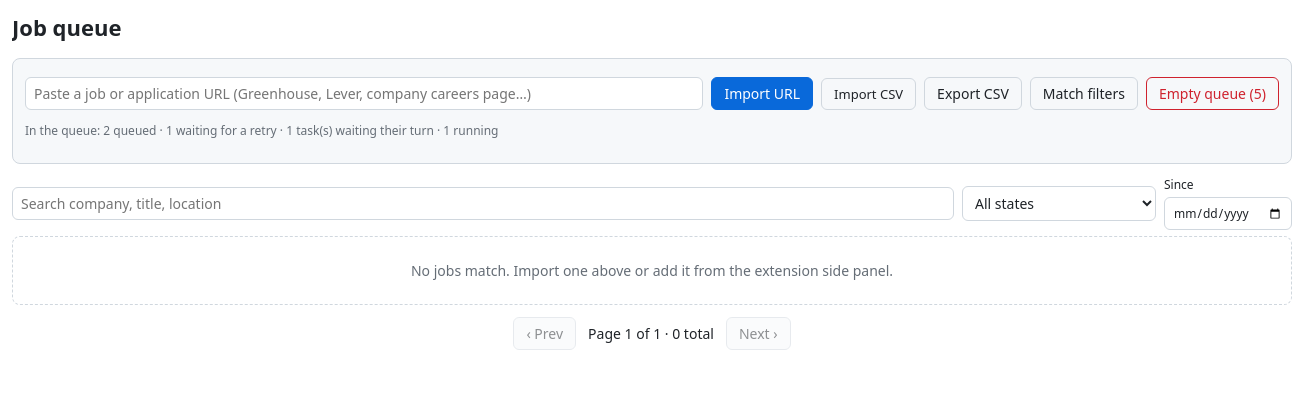
Test case: Job queue page › shows what is in the queue and empties it on confirmation
Expected: the text "2 queued" is shown, [25,122,498,139]
Step 1. Click the button "Empty queue (5)" → coordinates (1212, 94), box [1146,77,1279,110]
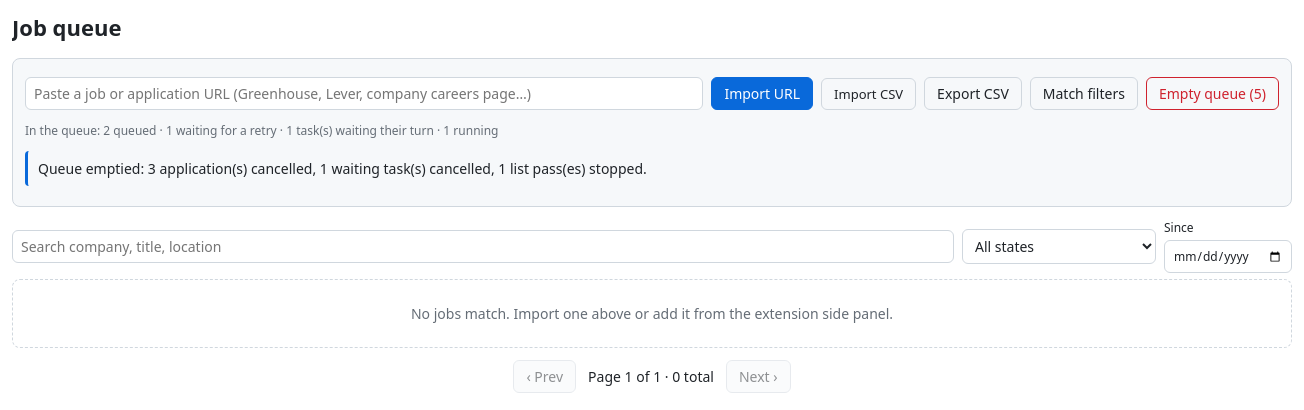
Now the text "Queue emptied: 3 application(s) cancelled, 1 waiting task(s) cancelled, 1 list pass(es) stopped" is shown, box [38,159,647,178]
